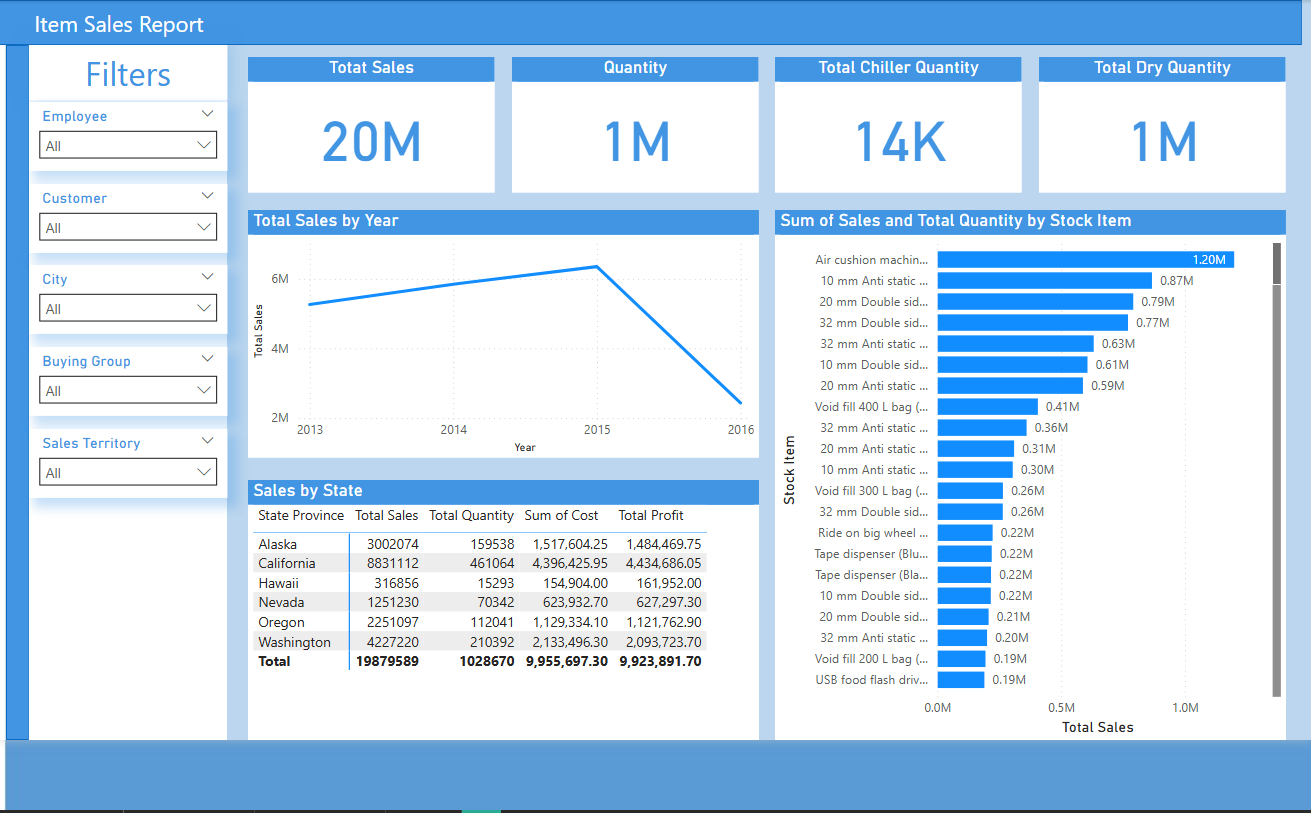

The page's visual inventory and layout, read from the dashboard file:
{"tool":"powerbi","page":{"name":"Sales Dashboard","canvas":[1280,720],"ordinal":0},"visuals":[{"type":"shape","box":[0,0,1270.3,43.8],"z":0},{"type":"shape","box":[9.7,43.8,22.4,676],"z":1000},{"type":"shape","box":[32.1,43.8,192.6,676],"z":2000},{"type":"card","title":"Totat Sales","fields":{"Values":["Sum(FactSale.Total Excluding Tax)"]},"box":[245.1,55.4,240.2,132.3],"z":3000},{"type":"textbox","box":[32.1,2.9,286.9,40.9],"z":4000},{"type":"card","title":"Total Dry Quantity","fields":{"Values":["Sum(FactSale.Total Dry Items)"]},"box":[1014.5,55.4,240.2,132.3],"z":5000},{"type":"card","title":"Total Chiller Quantity","fields":{"Values":["Sum(FactSale.Total Chiller Items)"]},"box":[758,55.4,240.2,132.3],"z":6000},{"type":"card","title":"Quantity","fields":{"Values":["Sum(FactSale.Quantity)"]},"box":[501.6,55.4,240.2,132.3],"z":7000},{"type":"textbox","box":[32.1,43.8,192.6,54.5],"z":8000},{"type":"lineChart","title":"Total Sales by Year","fields":{"Category":["DimDate.Date.Variation.Date Hierarchy.Year","DimDate.Date.Variation.Date Hierarchy.Quarter","DimDate.Date.Variation.Date Hierarchy.Month","DimDate.Date.Variation.Date Hierarchy.Day"],"Y":["Sum(FactSale.Total Excluding Tax)"]},"box":[245.1,204.3,497,241.2],"z":9000},{"type":"barChart","title":"Sum of Sales and Total Quantity by Stock Item","fields":{"Category":["DimStockItem.Stock Item"],"Y":["Sum(FactSale.Total Excluding Tax)"]},"box":[757.7,204.3,497,515.5],"z":10000},{"type":"pivotTable","title":"Sales by State","fields":{"Values":["Sum(FactSale.Total Excluding Tax)","Sum(FactSale.Quantity)","Sum(FactSale.Cost)","Sum(FactSale.Profit)"],"Rows":["DimCity.State Province"]},"box":[245.1,466.9,497,252.9],"z":11000},{"type":"slicer","fields":{"Values":["DimEmployee.Employee"]},"box":[32,98.9,192.8,66.9],"z":12000},{"type":"slicer","fields":{"Values":["DimCustomers.Customer"]},"box":[32,178.9,192.8,66.9],"z":13000},{"type":"slicer","fields":{"Values":["DimCity.City"]},"box":[32,257.8,192.8,66.9],"z":14000},{"type":"slicer","fields":{"Values":["DimCustomers.Buying Group"]},"box":[32,337.7,192.8,66.9],"z":15000},{"type":"slicer","fields":{"Values":["DimCity.Sales Territory"]},"box":[32,417.7,192.8,66.9],"z":16000}]}

Visuals, with their boxes on the page's 1280x720 design canvas (x1, y1, x2, y2). These are canvas units, not pixel positions in the 1311x813 screenshot, which may show the page scaled, cropped or inside an application window:
shape: <bbox>0, 0, 1270, 44</bbox>
shape: <bbox>10, 44, 32, 720</bbox>
shape: <bbox>32, 44, 225, 720</bbox>
"Totat Sales" card: <bbox>245, 55, 485, 188</bbox>
textbox: <bbox>32, 3, 319, 44</bbox>
"Total Dry Quantity" card: <bbox>1014, 55, 1255, 188</bbox>
"Total Chiller Quantity" card: <bbox>758, 55, 998, 188</bbox>
"Quantity" card: <bbox>502, 55, 742, 188</bbox>
textbox: <bbox>32, 44, 225, 98</bbox>
"Total Sales by Year" lineChart: <bbox>245, 204, 742, 446</bbox>
"Sum of Sales and Total Quantity by Stock Item" barChart: <bbox>758, 204, 1255, 720</bbox>
"Sales by State" pivotTable: <bbox>245, 467, 742, 720</bbox>
slicer - DimEmployee.Employee: <bbox>32, 99, 225, 166</bbox>
slicer - DimCustomers.Customer: <bbox>32, 179, 225, 246</bbox>
slicer - DimCity.City: <bbox>32, 258, 225, 325</bbox>
slicer - DimCustomers.Buying Group: <bbox>32, 338, 225, 405</bbox>
slicer - DimCity.Sales Territory: <bbox>32, 418, 225, 485</bbox>
